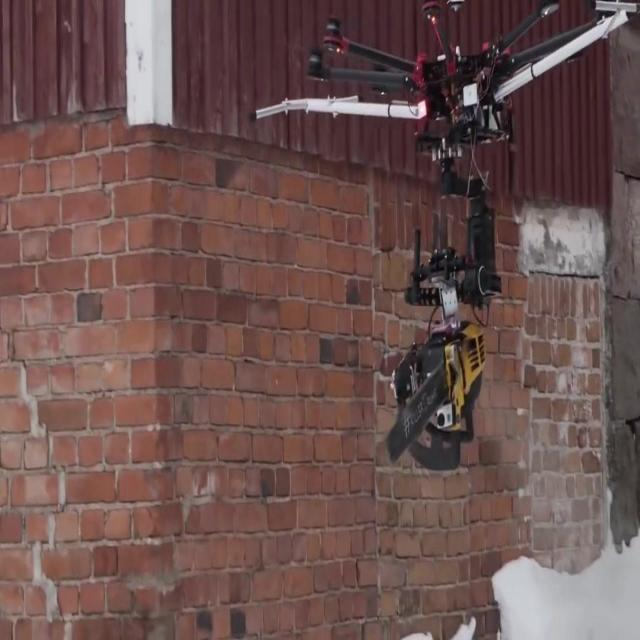UAV: (247, 0, 640, 197)
